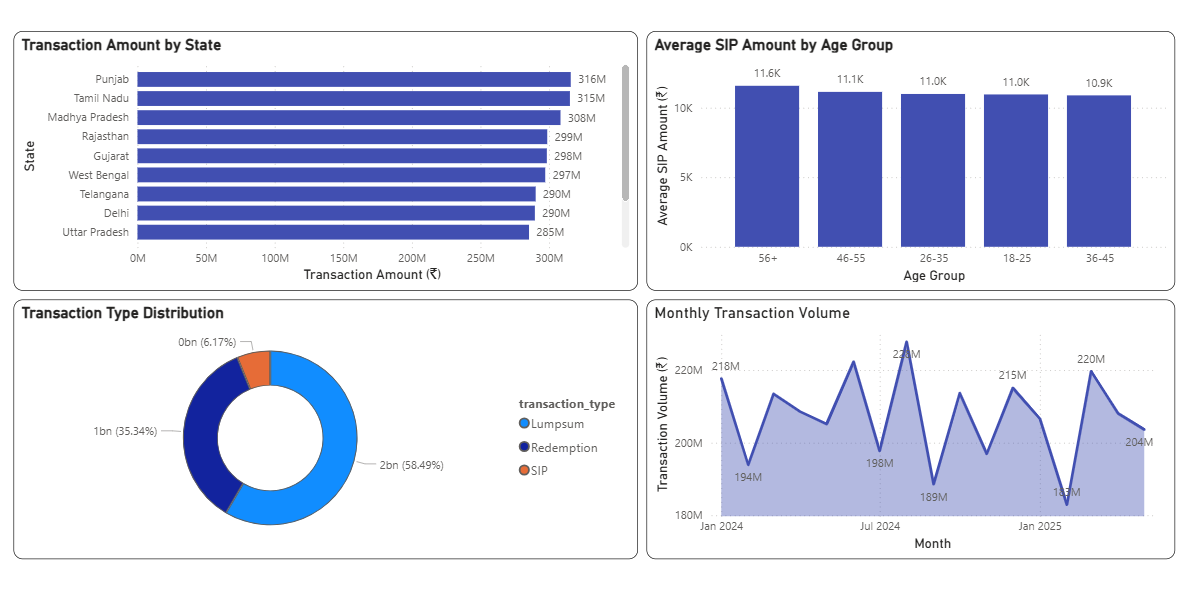

What the dashboard file says about the page in this screenshot:
{"tool":"powerbi","page":{"name":"Investor Analytics Dashboard","canvas":[1350,800],"ordinal":2},"visuals":[{"type":"clusteredBarChart","title":"Transaction Amount by State","fields":{"Category":["investor_transactions_cleaned.state"],"Y":["Sum(investor_transactions_cleaned.amount_inr)"]},"box":[27.5,80.7,673.2,279.9],"z":0},{"type":"donutChart","title":"Transaction Type Distribution","fields":{"Category":["investor_transactions_cleaned.transaction_type"],"Y":["Sum(investor_transactions_cleaned.amount_inr)"]},"box":[27.5,371,673.2,279.9],"z":1000},{"type":"clusteredColumnChart","title":"Average SIP Amount by Age Group","fields":{"Category":["investor_transactions_cleaned.age_group"],"Y":["Avg(investor_transactions_cleaned.amount_inr)"]},"box":[710,81,570,280],"z":2000},{"type":"lineChart","title":"Monthly Transaction Volume","fields":{"Y":["Sum(investor_transactions_cleaned.amount_inr)"],"Category":["investor_transactions_cleaned.transaction_date.Variation.Date Hierarchy.Year","investor_transactions_cleaned.transaction_date.Variation.Date Hierarchy.Month"]},"box":[710,371,570,280],"z":3000}]}

Visuals, with their boxes on the page's 1350x800 design canvas (x1, y1, x2, y2). These are canvas units, not pixel positions in the 1204x595 screenshot, which may show the page scaled, cropped or inside an application window:
"Transaction Amount by State" clusteredBarChart: box=[28, 81, 701, 361]
"Transaction Type Distribution" donutChart: box=[28, 371, 701, 651]
"Average SIP Amount by Age Group" clusteredColumnChart: box=[710, 81, 1280, 361]
"Monthly Transaction Volume" lineChart: box=[710, 371, 1280, 651]
